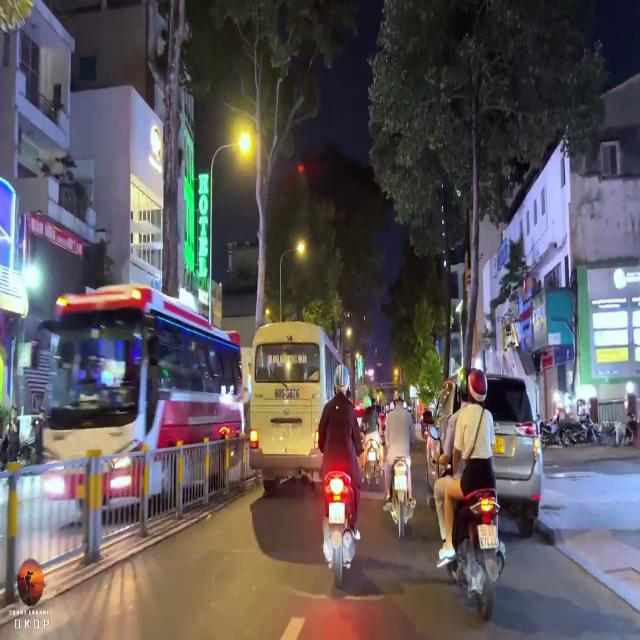bien_trang: (476, 519, 501, 554)
